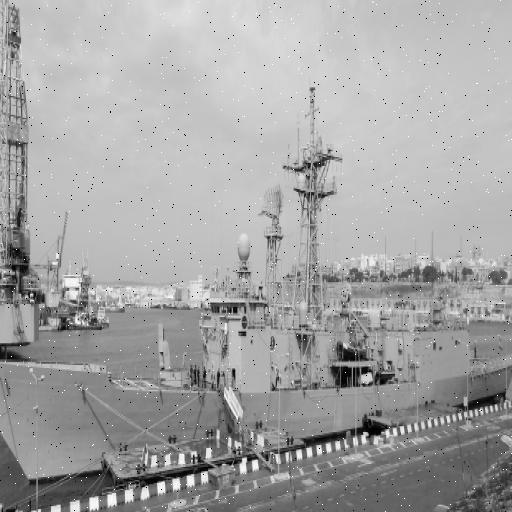Fragata: (1, 77, 512, 504)
